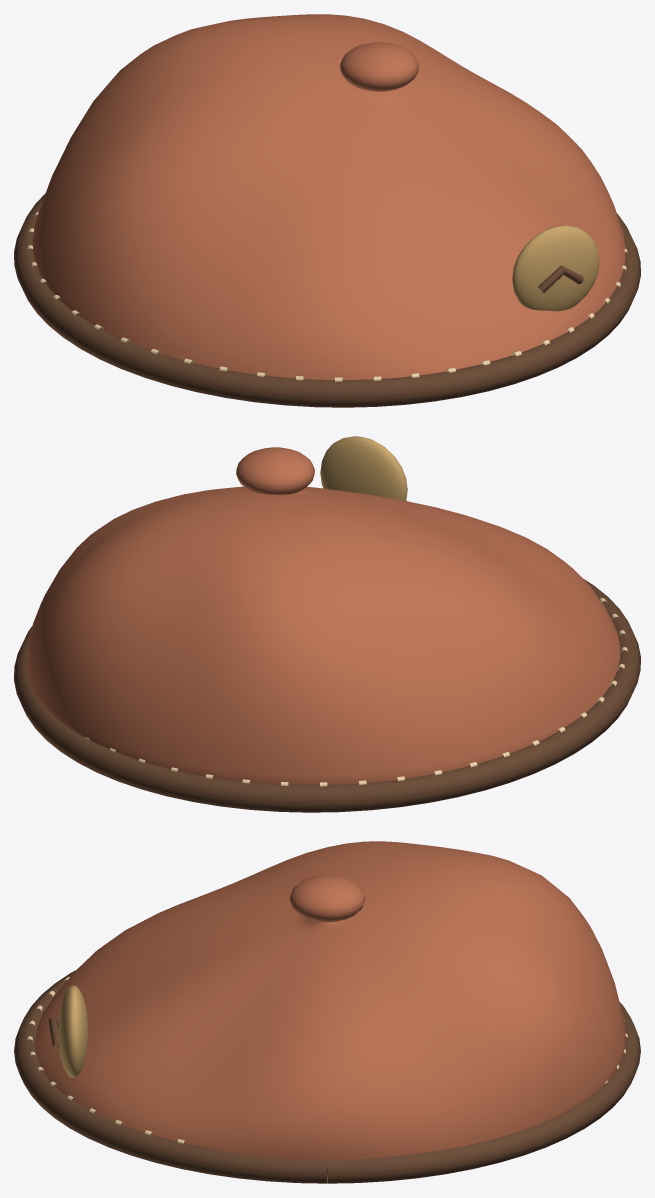
The model's file is hat_pastry_beret_crafted.glb.
The picture shows the model from 3 angles, top to bottom: view 1: azimuth 30°, elevation 25°; view 2: azimuth 150°, elevation 25°; view 3: azimuth 270°, elevation 25°; orthographic projection. The views are drawn at different scales.
Parts seen in each view (by area): view 1: WovenClothCinnamonBeret, Oiled walnut grip, Satin antique brass, Warm linen stitching; view 2: WovenClothCinnamonBeret, Oiled walnut grip, Satin antique brass, Warm linen stitching; view 3: WovenClothCinnamonBeret, Oiled walnut grip, Satin antique brass.
Boxes of the visible parts, x1,y1,x2,y2 form: WovenClothCinnamonBeret: (32,14,625,380); Oiled walnut grip: (14,193,640,407); Satin antique brass: (512,225,599,311); Warm linen stitching: (27,212,627,381); WovenClothCinnamonBeret: (26,447,620,785); Oiled walnut grip: (14,579,640,812); Satin antique brass: (320,436,407,500); Warm linen stitching: (85,585,627,786); WovenClothCinnamonBeret: (35,841,625,1178); Oiled walnut grip: (14,970,640,1183); Satin antique brass: (58,985,88,1077).
Bounding box in the file's own units: 0.67 × 0.258 × 0.708.
